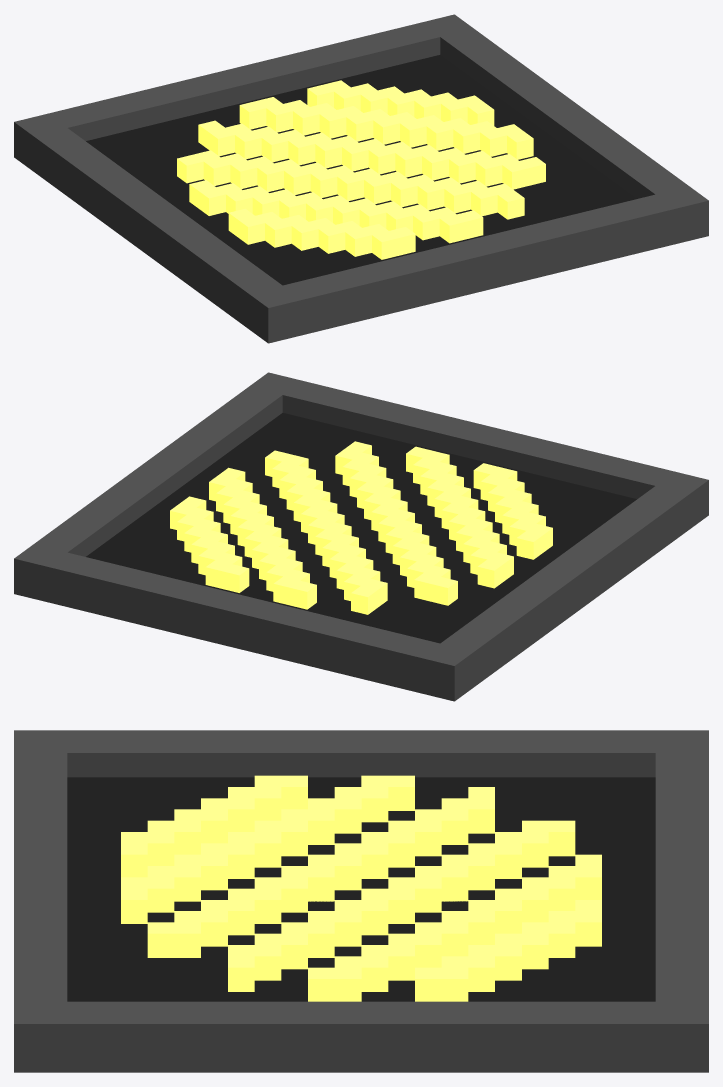
The model's file is trap_GRILL_YELLOW.glb.
3 renders of one model, top to bottom at view 1: azimuth 30°, elevation 25°; view 2: azimuth 150°, elevation 25°; view 3: azimuth 270°, elevation 25°, orthographic. The views are drawn at different scales.
Parts seen in each view (by area): view 1: item_TRAP_GRILL_YELLOW; view 2: item_TRAP_GRILL_YELLOW; view 3: item_TRAP_GRILL_YELLOW.
Boxes of the visible parts, box(x1,y1,x2,y2) form: item_TRAP_GRILL_YELLOW: box(14, 14, 708, 343); item_TRAP_GRILL_YELLOW: box(14, 372, 708, 701); item_TRAP_GRILL_YELLOW: box(14, 730, 708, 1072).
Bounding box in the file's own units: 0.5909 × 0.0455 × 0.5909.
1 material, 1 textured.
